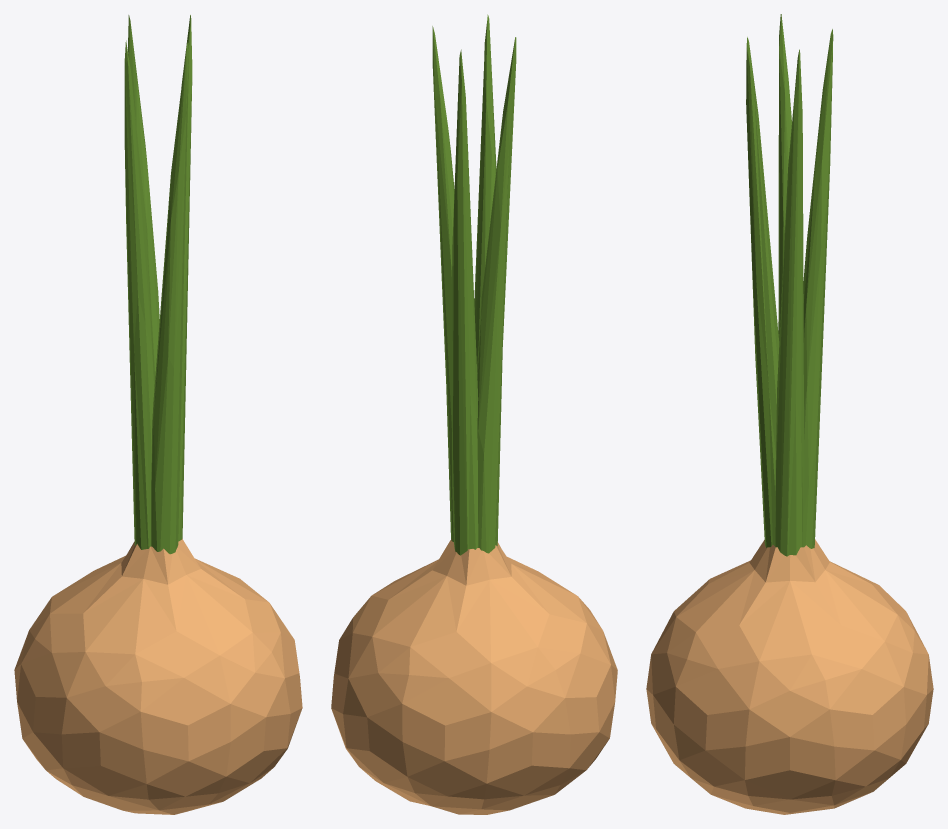
Rendered from onion_yellow.fbx.
3 views of the same model, side by side, from view 1: azimuth 30°, elevation 25°; view 2: azimuth 150°, elevation 25°; view 3: azimuth 270°, elevation 25° (orthographic).
Visible parts, largest first — view 1: onion_yellow; view 2: onion_yellow; view 3: onion_yellow.
Boxes of the visible parts, x1,y1,x2,y2 form: onion_yellow: (14,15,302,814); onion_yellow: (331,14,617,814); onion_yellow: (646,14,933,814).
Bounding box in the file's own units: 185 × 548 × 185.
